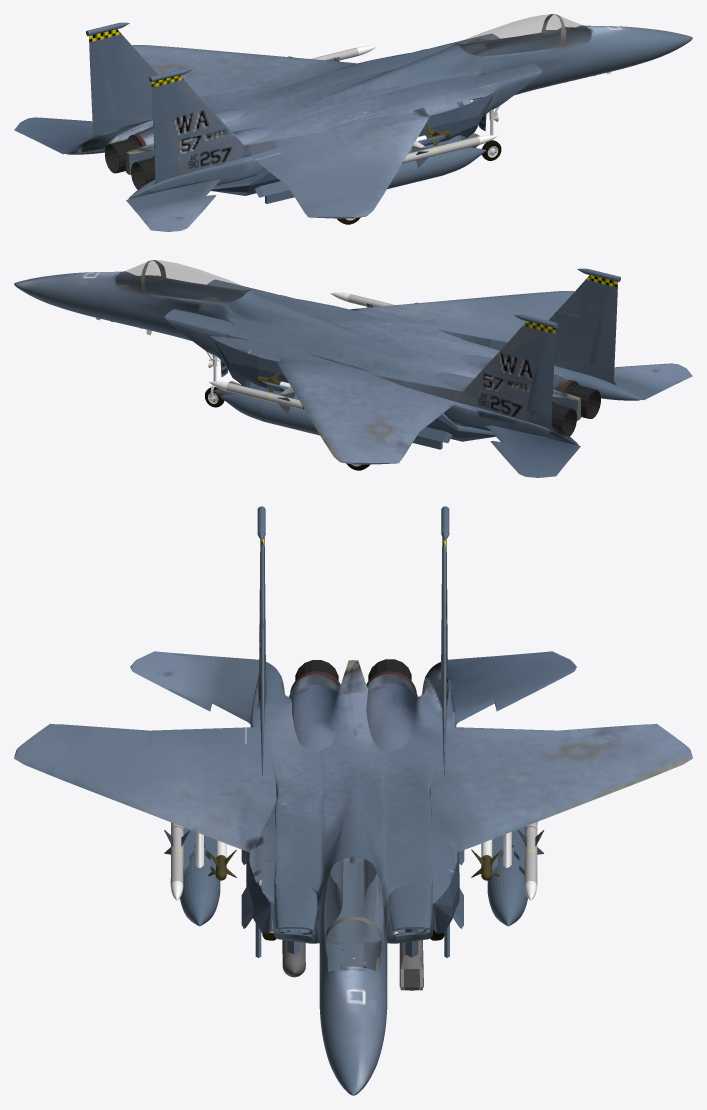
The model's file is waf15e1.glb.
3 renders of one model, top to bottom at view 1: azimuth 30°, elevation 25°; view 2: azimuth 150°, elevation 25°; view 3: azimuth 270°, elevation 25°, orthographic. The views are drawn at different scales.
Parts seen in each view (by area): view 1: fuselage, 立方体.015, 円柱, 円柱.006; view 2: fuselage, 立方体.024, 円柱, 円柱.006; view 3: fuselage, 円柱, 円柱.006, 円柱.007, 立方体.015, 円柱.036, 立方体.024.
Boxes of the visible parts, x1,y1,x2,y2 form: fuselage: (14,14,692,231); 立方体.015: (212,94,493,194); 円柱: (387,147,486,189); 円柱.006: (288,46,497,167); fuselage: (14,260,692,477); 立方体.024: (214,340,495,441); 円柱: (220,393,319,435); 円柱.006: (209,292,417,413); fuselage: (14,506,692,1095); 円柱: (180,827,527,926); 円柱.006: (164,822,544,900); 円柱.007: (206,839,502,880); 立方体.015: (246,851,273,933); 円柱.036: (399,940,423,990); 立方体.024: (435,852,459,933).
Bounding box in the file's own units: 17.7 × 5.49 × 11.7.
Materials: 65 (8 with a texture image).
